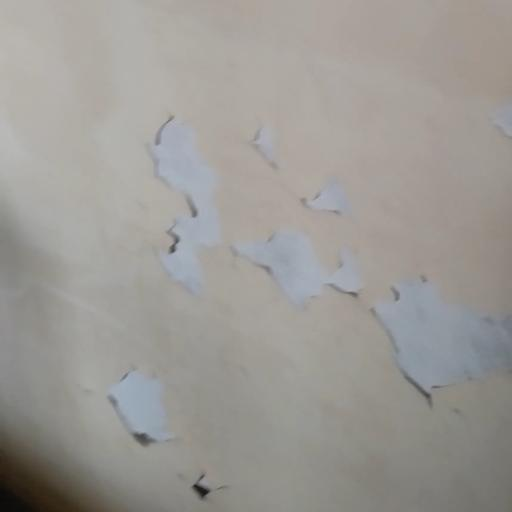peeling: (125, 91, 512, 395), (87, 352, 194, 458), (179, 461, 226, 501)
